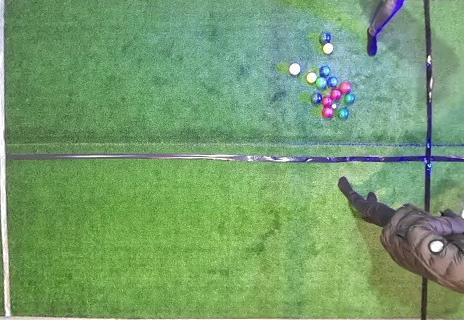blue: (327, 77, 338, 87), (320, 66, 330, 77)
green: (319, 32, 331, 43), (316, 77, 327, 89), (311, 93, 322, 105), (344, 94, 355, 105), (338, 109, 349, 119)
red: (289, 62, 301, 75), (340, 82, 351, 93), (330, 89, 341, 100), (322, 107, 333, 118), (322, 96, 333, 106)
vline: (423, 1, 463, 210), (0, 1, 15, 319), (420, 276, 464, 319)
white: (332, 104, 337, 109)
yellow: (323, 43, 333, 54), (306, 73, 317, 83)
